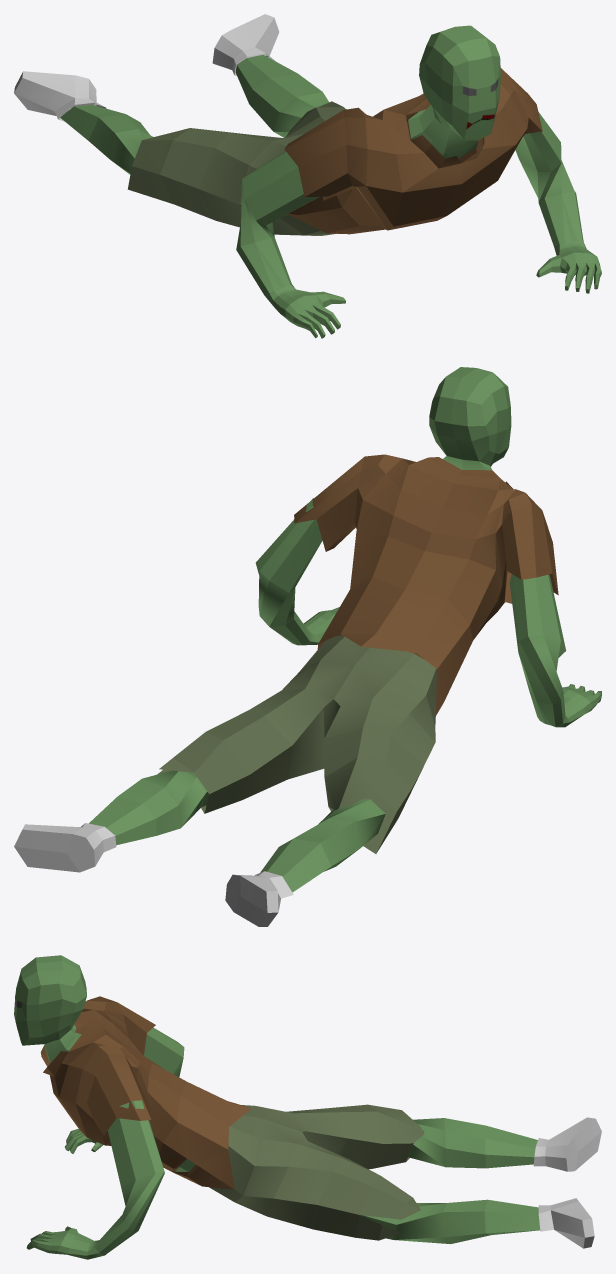
Rendered from ZombieCrawl(151).obj.
3 renders of one model, top to bottom at view 1: azimuth 30°, elevation 25°; view 2: azimuth 150°, elevation 25°; view 3: azimuth 270°, elevation 25°, orthographic. The views are drawn at different scales.
Visible parts, largest first — view 1: Object001; view 2: Object001; view 3: Object001.
Part boxes in pixels (x1=…): Object001: x1=14, y1=14, x2=601, y2=338; Object001: x1=14, y1=367, x2=601, y2=926; Object001: x1=14, y1=955, x2=601, y2=1259.
Size of the model in its own units: 28.66 by 25.6 by 53.75.
